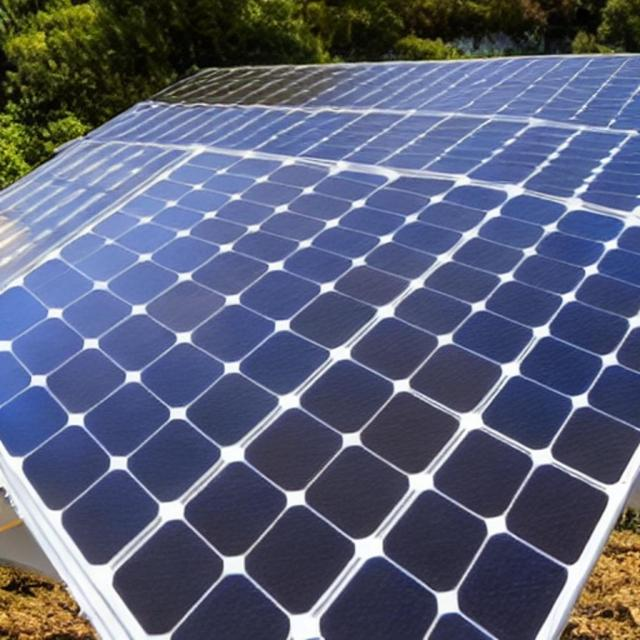no faulty: (0, 50, 640, 640)
